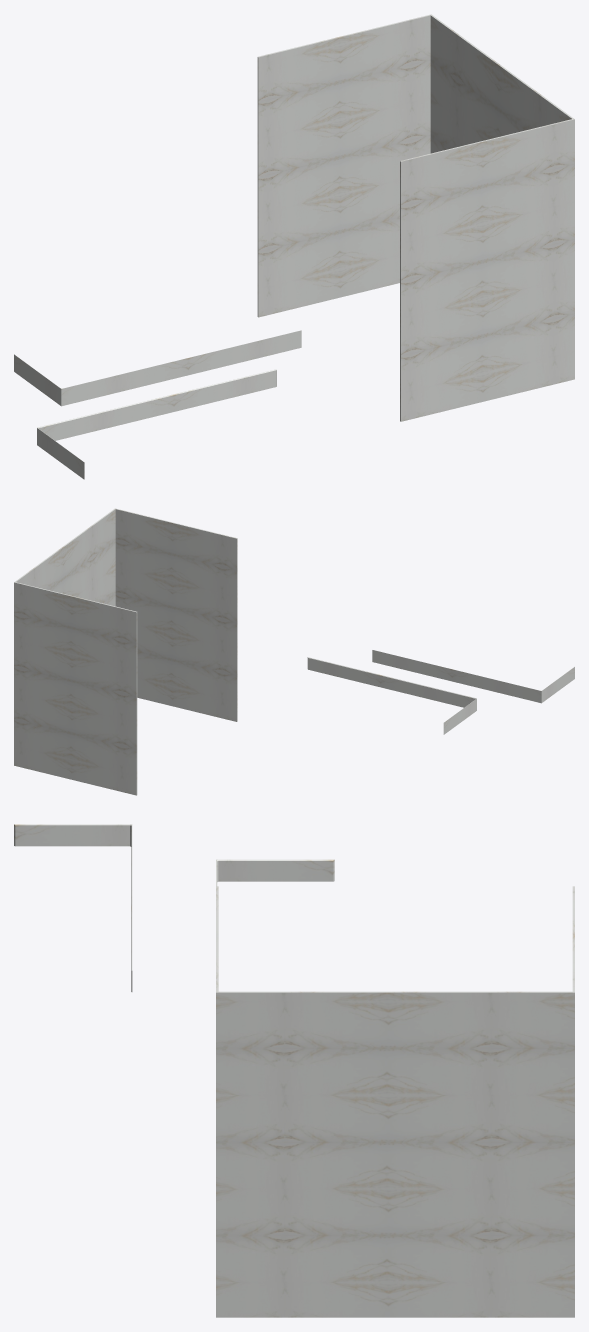
The model's file is 2345_bathroom_BP_Sculpture_Oro.gltf.
3 renders of one model, top to bottom at view 1: azimuth 30°, elevation 25°; view 2: azimuth 150°, elevation 25°; view 3: azimuth 270°, elevation 25°, orthographic. The views are drawn at different scales.
Parts seen in each view (by area): view 1: Sculpture_Oro.002; view 2: Sculpture_Oro.002; view 3: Sculpture_Oro.002.
Part boxes in pixels (x1=…): Sculpture_Oro.002: x1=14, y1=14, x2=574, y2=479; Sculpture_Oro.002: x1=14, y1=508, x2=574, y2=795; Sculpture_Oro.002: x1=14, y1=824, x2=574, y2=1317.
Size of the model in its own units: 6.9 by 3 by 4.69.
1 material, 1 textured.
